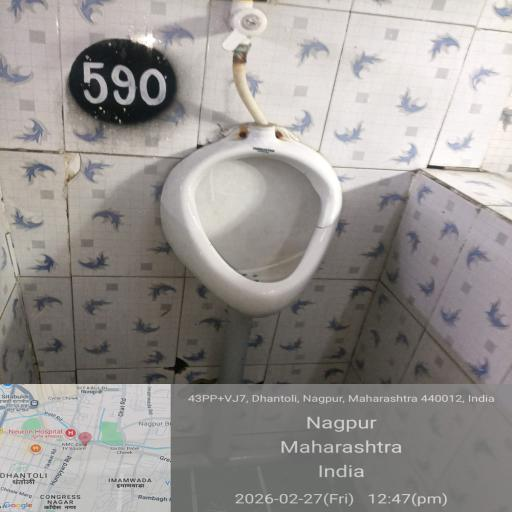clean_floor: (179, 0, 512, 142), (347, 154, 512, 372)
clean_urinal: (179, 150, 339, 306)
partial_dirty_floor: (0, 0, 168, 375)
